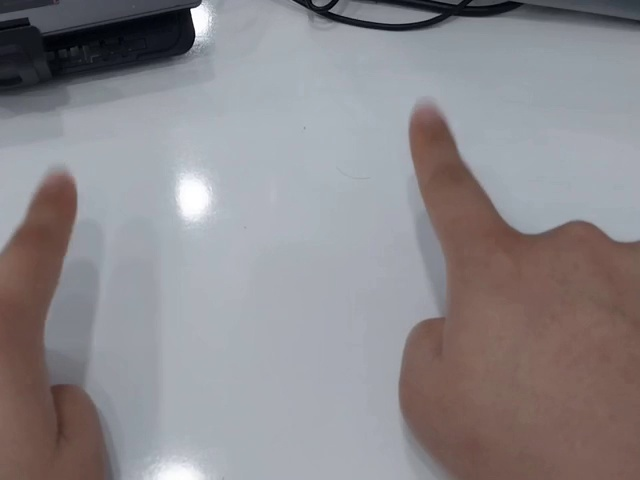fingers: (25, 168, 79, 223), (408, 98, 457, 148)
